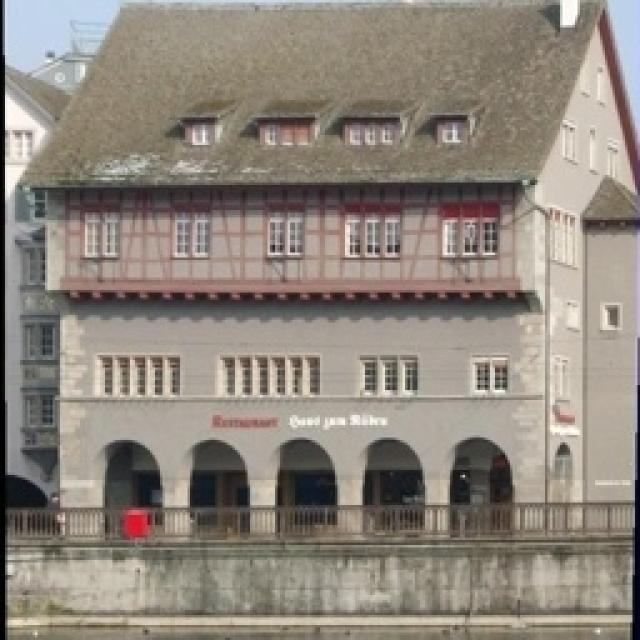building: (45, 0, 640, 545)
